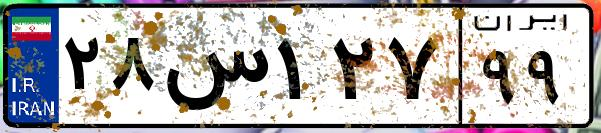1: (270, 28, 330, 110)
2: (330, 28, 385, 110), (57, 26, 110, 100)
7: (385, 28, 445, 110)
8: (110, 28, 158, 98)
9: (475, 38, 525, 113), (525, 38, 570, 115)
س: (158, 20, 270, 120)
